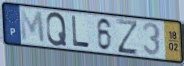3: (141, 21, 162, 58)
6: (96, 17, 113, 52)
L: (71, 15, 91, 49)
M: (19, 8, 47, 45)
Q: (45, 11, 68, 48)
Z: (115, 17, 140, 56)
